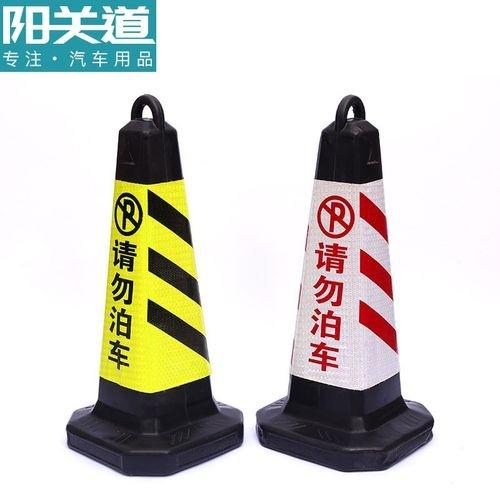cone_barrel: (62, 93, 240, 469), (255, 99, 429, 465)
